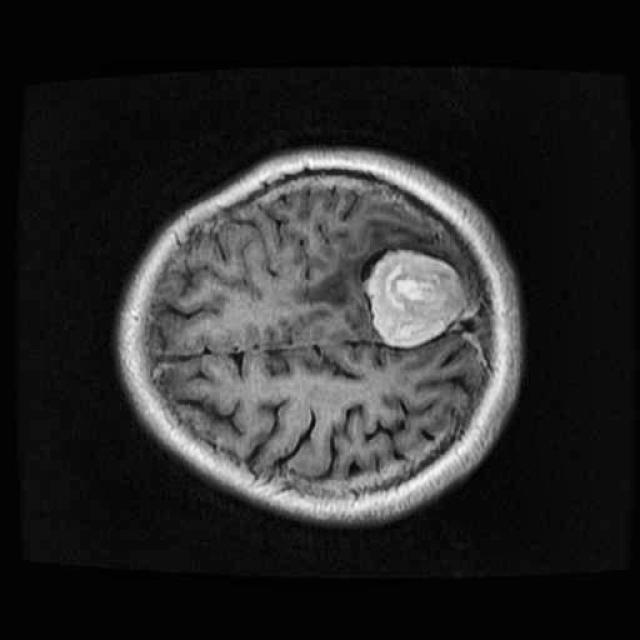Tumor: (360, 235, 471, 356)
